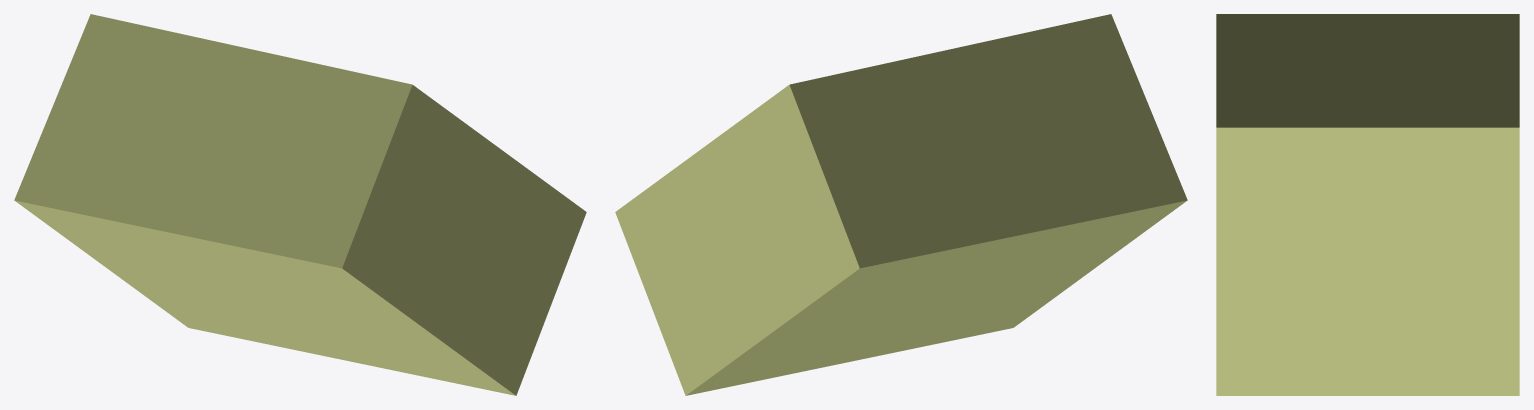
The picture shows the model from 3 angles, left to right: view 1: azimuth 30°, elevation 25°; view 2: azimuth 150°, elevation 25°; view 3: azimuth 270°, elevation 25°; orthographic projection. The views are drawn at different scales.
Parts seen in each view (by area): view 1: 0_0_1_3_1_1_2_0_3_2_2; view 2: 0_0_1_3_1_1_2_0_3_2_2; view 3: 0_0_1_3_1_1_2_0_3_2_2.
Boxes of the visible parts, box(x1,y1,x2,y2) form: 0_0_1_3_1_1_2_0_3_2_2: box(14, 14, 586, 395); 0_0_1_3_1_1_2_0_3_2_2: box(615, 14, 1187, 395); 0_0_1_3_1_1_2_0_3_2_2: box(1216, 14, 1519, 395).
Size of the model in its own units: 11.88 by 9 by 9.
